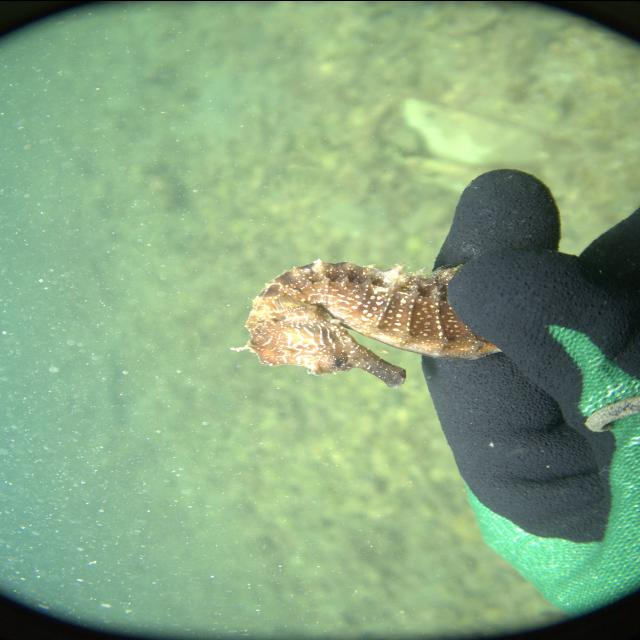Guttu: (228, 304, 410, 392)
